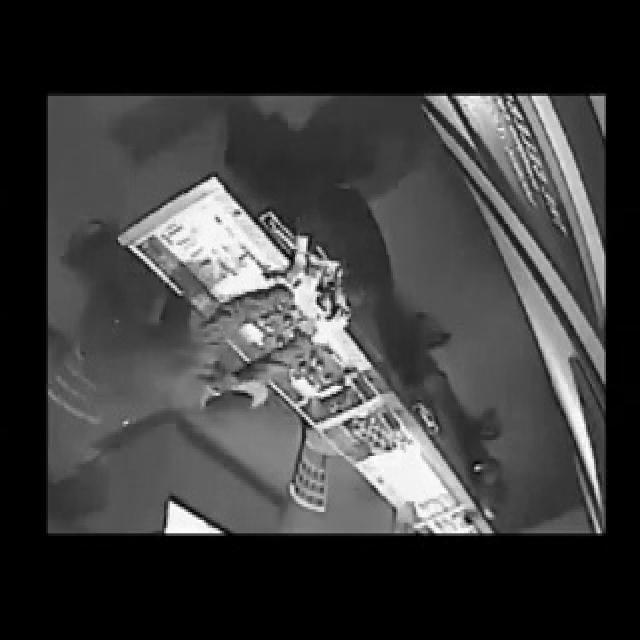Shoplifting: (118, 149, 410, 456)
